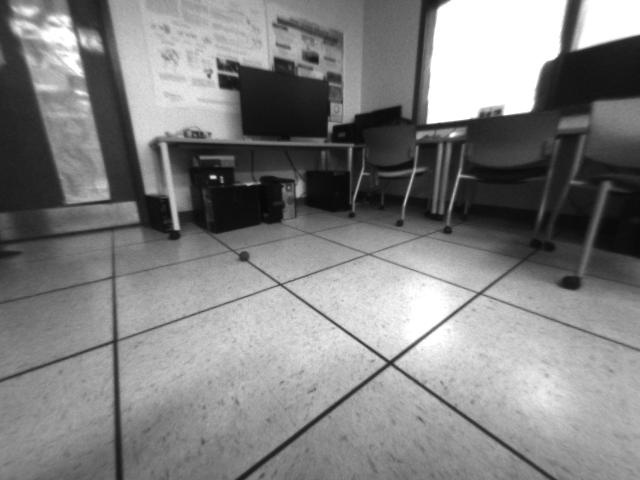dogtoy: (233, 244, 260, 265)
